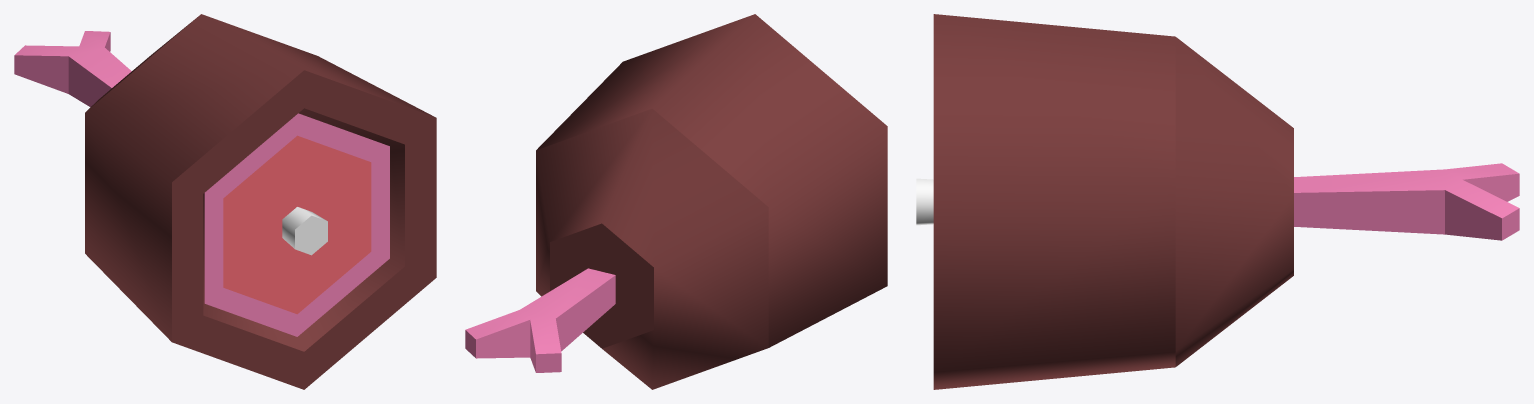
The model's file is ham.fbx.
3 views of the same model, side by side, from view 1: azimuth 30°, elevation 25°; view 2: azimuth 150°, elevation 25°; view 3: azimuth 270°, elevation 25° (orthographic). The views are drawn at different scales.
Parts seen in each view (by area): view 1: wholeHam; view 2: wholeHam; view 3: wholeHam.
Boxes of the visible parts, bbox=[...] form: wholeHam: bbox=[14, 14, 436, 389]; wholeHam: bbox=[465, 14, 887, 389]; wholeHam: bbox=[916, 14, 1519, 389].
Bounding box in the file's own units: 38.09 × 43.99 × 63.97.
